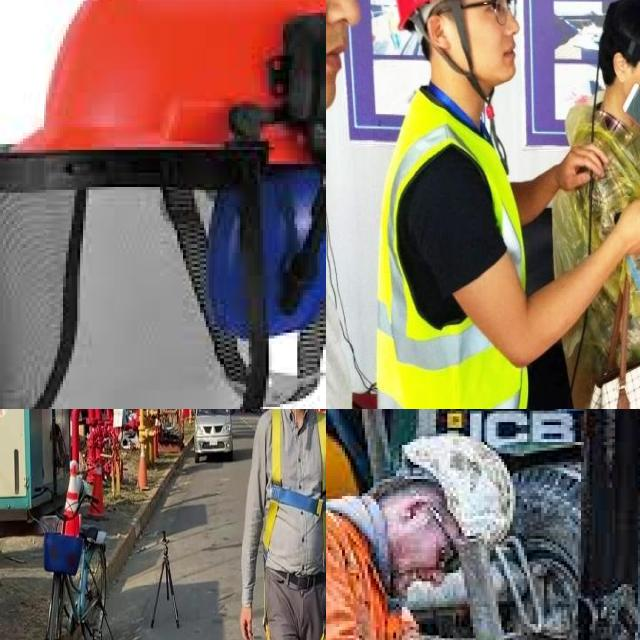Ear-protection: (211, 164, 326, 344)
Harness: (262, 409, 326, 566)
No_Ear-Protection: (387, 492, 439, 532), (426, 15, 451, 49), (613, 52, 627, 82)
face_nomask: (326, 0, 362, 109), (389, 531, 445, 596), (468, 13, 519, 81)
head_helmet: (0, 0, 326, 167), (405, 433, 515, 544)
